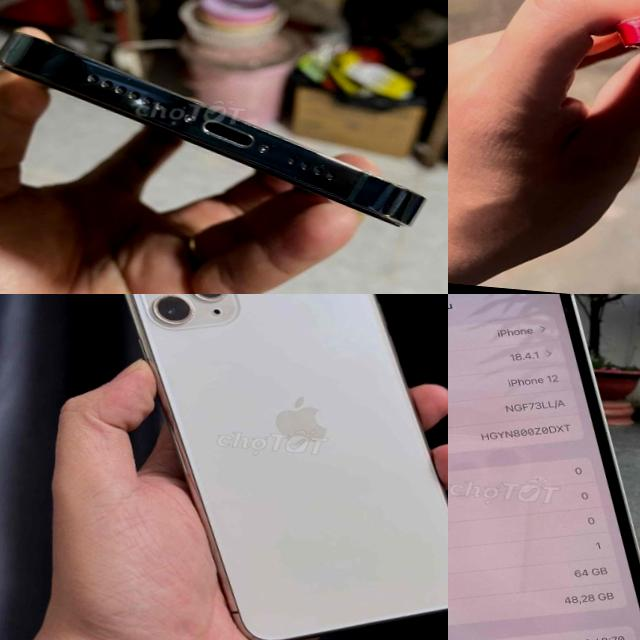scratch: (604, 6, 640, 36)
